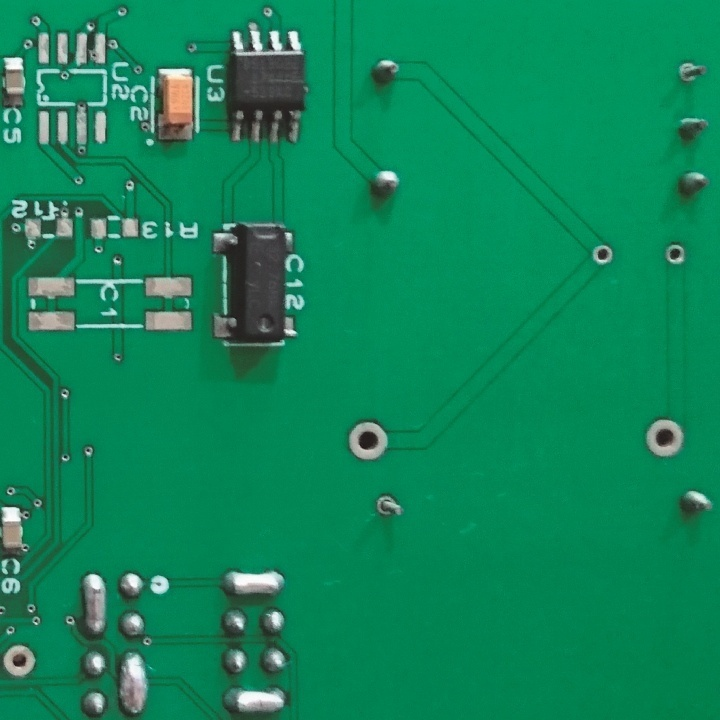F: (641, 413, 685, 466), (345, 419, 393, 462), (1, 643, 43, 683), (372, 492, 407, 526), (676, 60, 708, 86), (590, 243, 616, 269), (663, 240, 684, 269)
P: (218, 683, 293, 717), (219, 566, 289, 601), (116, 649, 150, 718), (81, 571, 108, 639)
